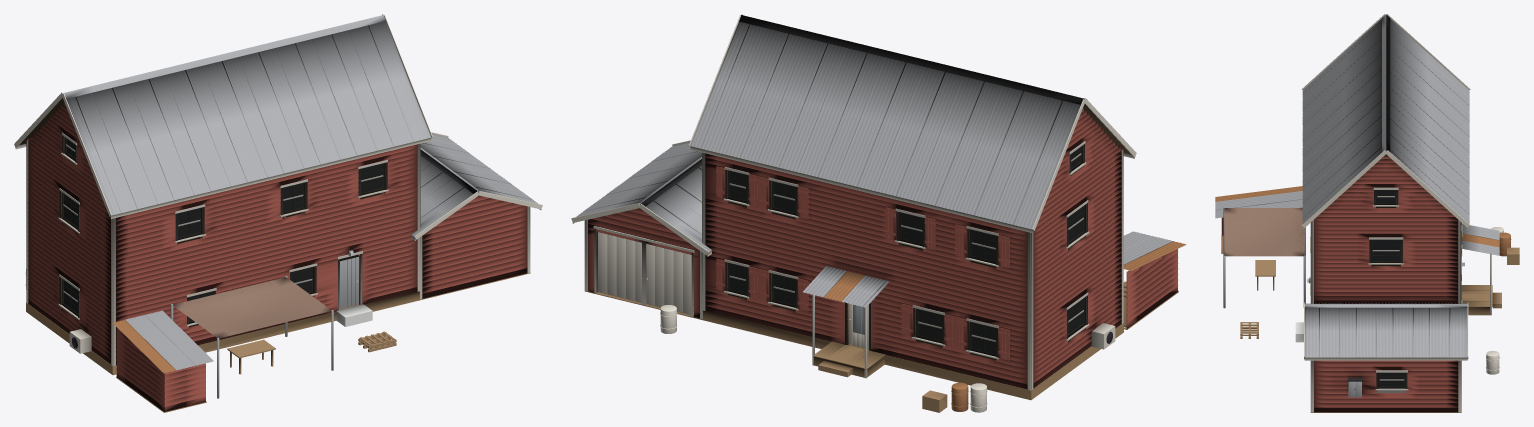
File: starter.glb
3 renders of one model, left to right at view 1: azimuth 30°, elevation 25°; view 2: azimuth 150°, elevation 25°; view 3: azimuth 270°, elevation 25°, orthographic. The views are drawn at different scales.
Visible parts, largest first — view 1: PART, DOOR_back; view 2: PART, DOOR_gar_l, DOOR_gar_r, DOOR_front; view 3: PART.
Part boxes in pixels (left/top/right/bottom): PART: left=14, top=14, right=542, bottom=412; DOOR_back: left=340, top=256, right=358, bottom=308; PART: left=571, top=14, right=1186, bottom=412; DOOR_gar_l: left=646, top=244, right=691, bottom=314; DOOR_gar_r: left=598, top=232, right=641, bottom=302; DOOR_front: left=848, top=303, right=868, bottom=348; PART: left=1215, top=14, right=1519, bottom=412.
Bounding box in the file's own units: 19.19 × 10.54 × 13.28.
